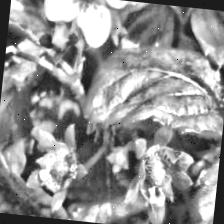Blossom Blight: (140, 149, 174, 197), (43, 148, 78, 191)
